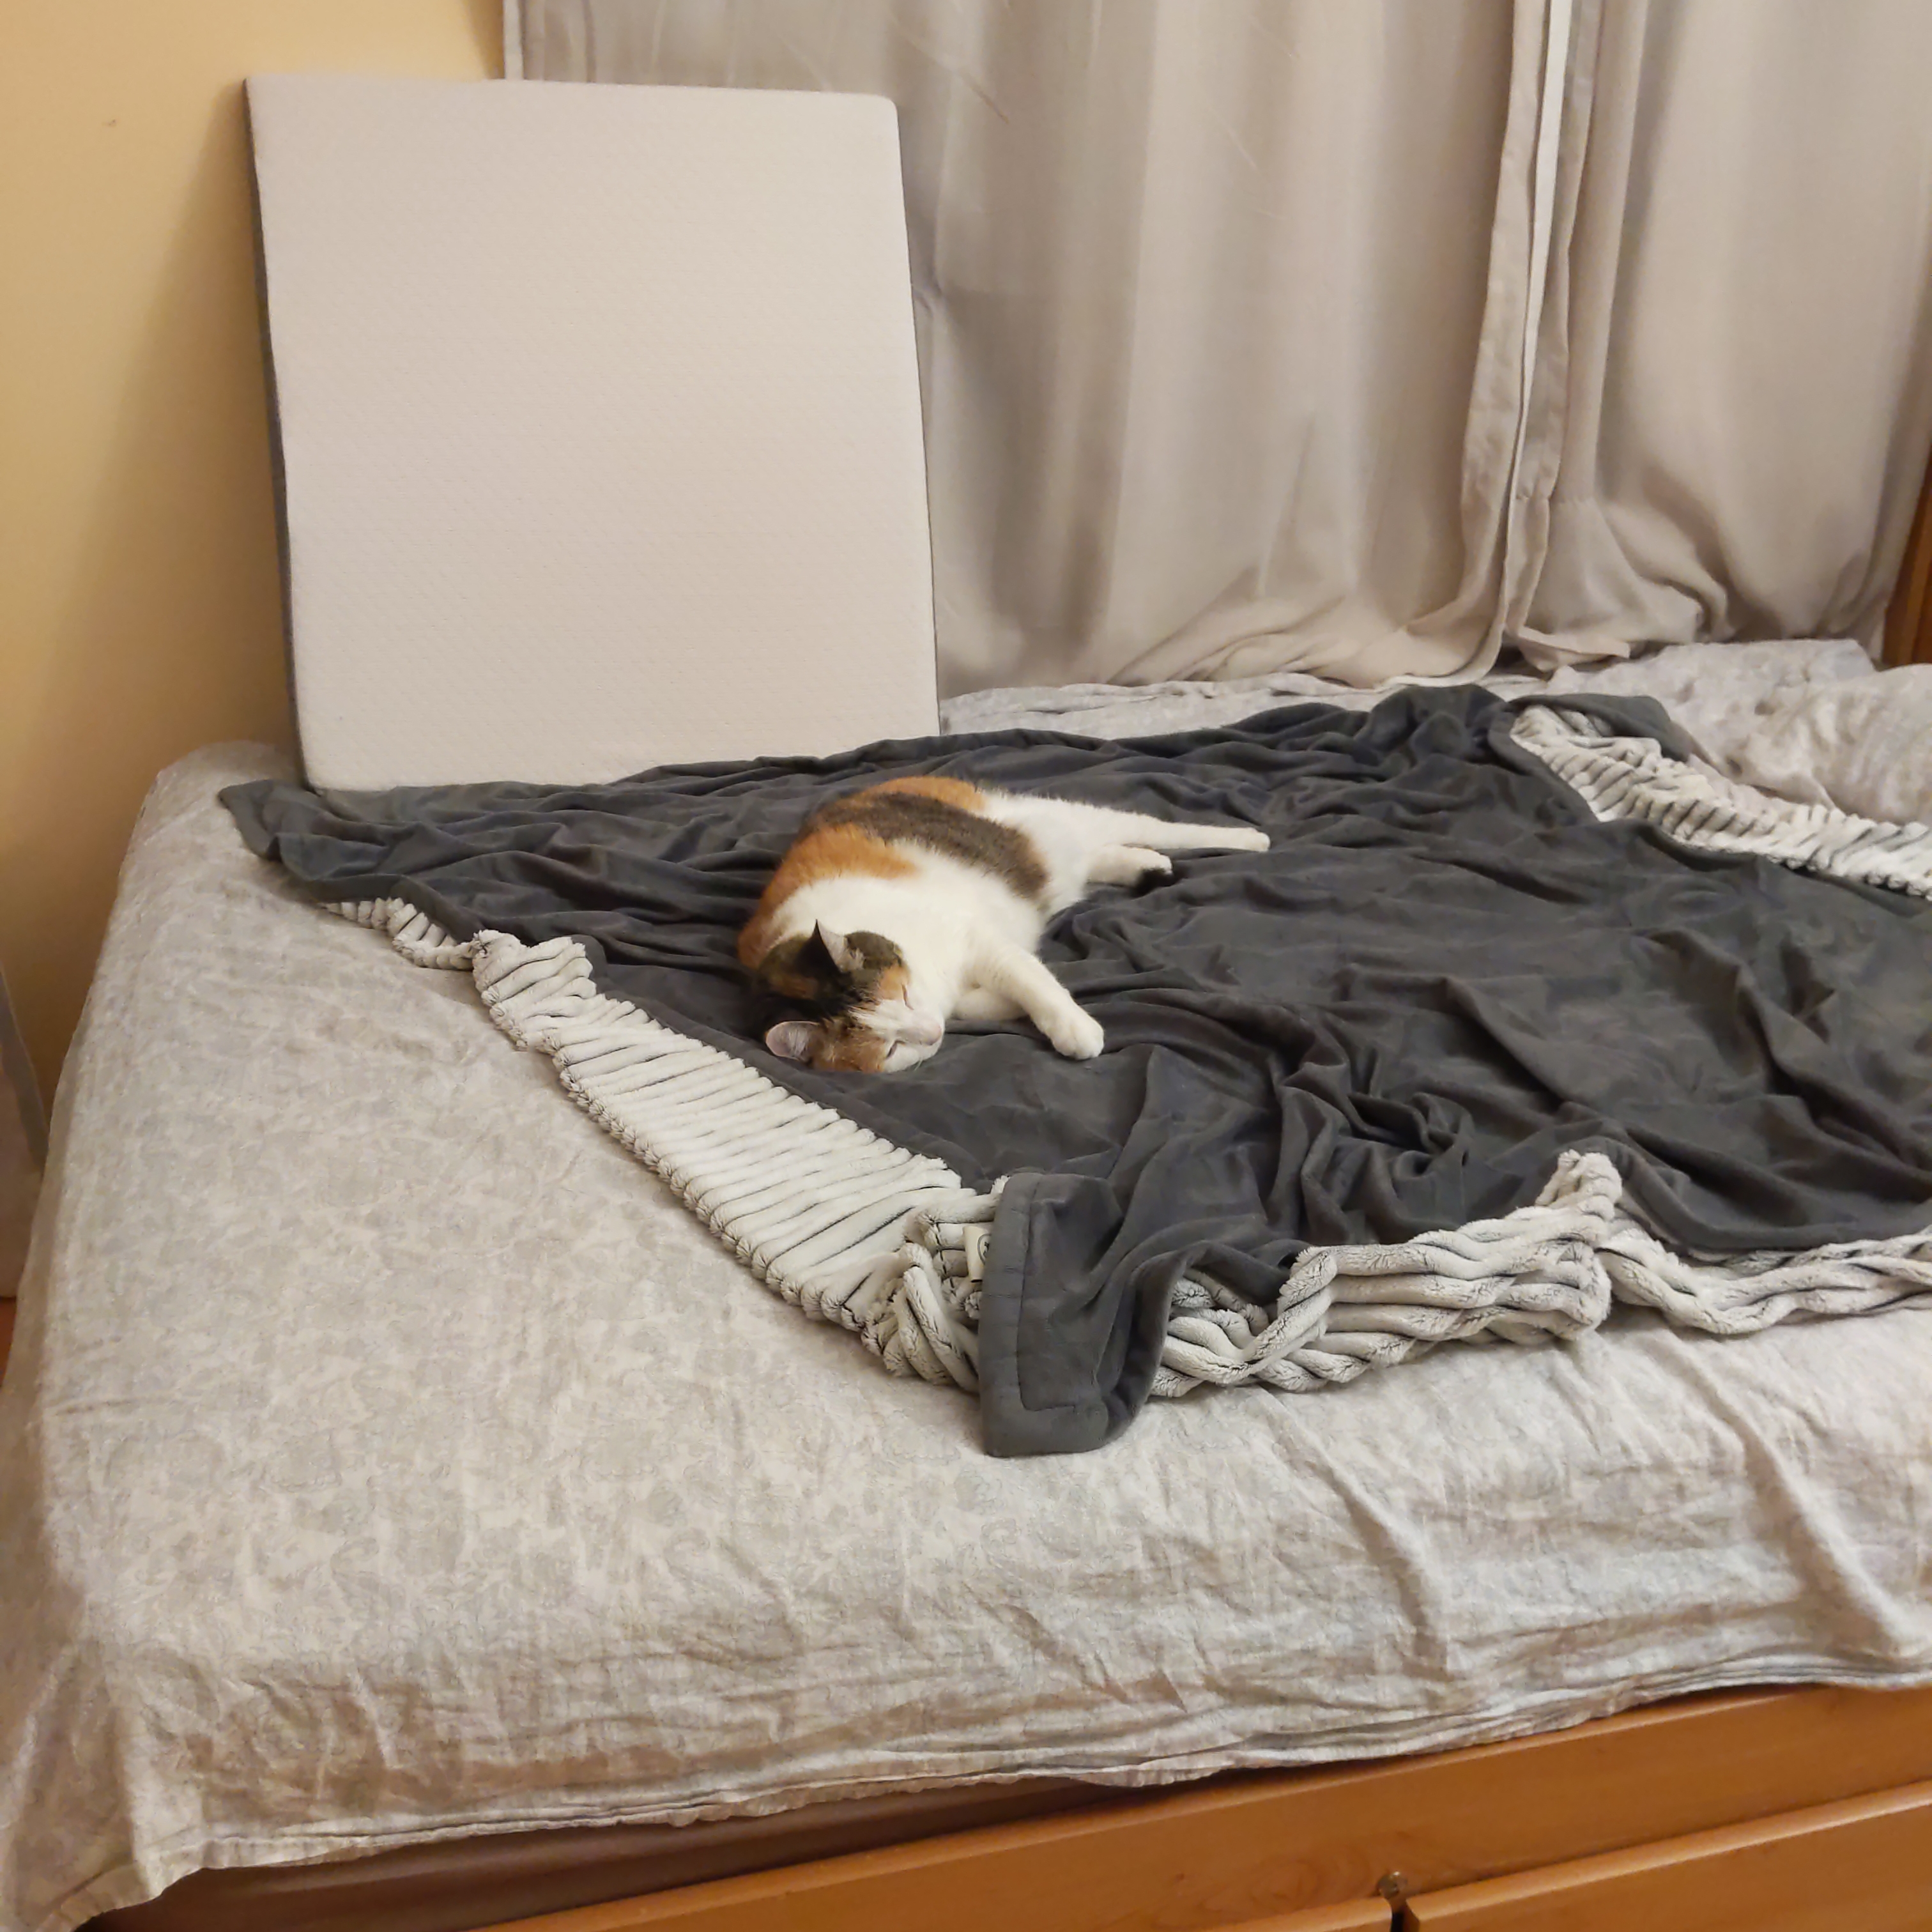Calico: (738, 773, 1272, 1074)
